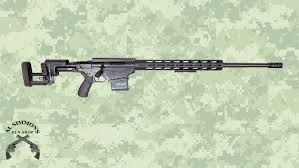gun: (20, 52, 286, 102)
